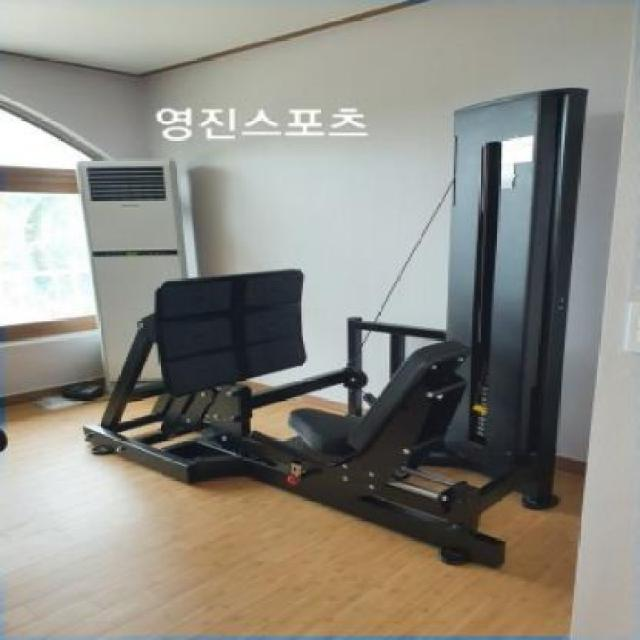leg press: (71, 80, 586, 575)
